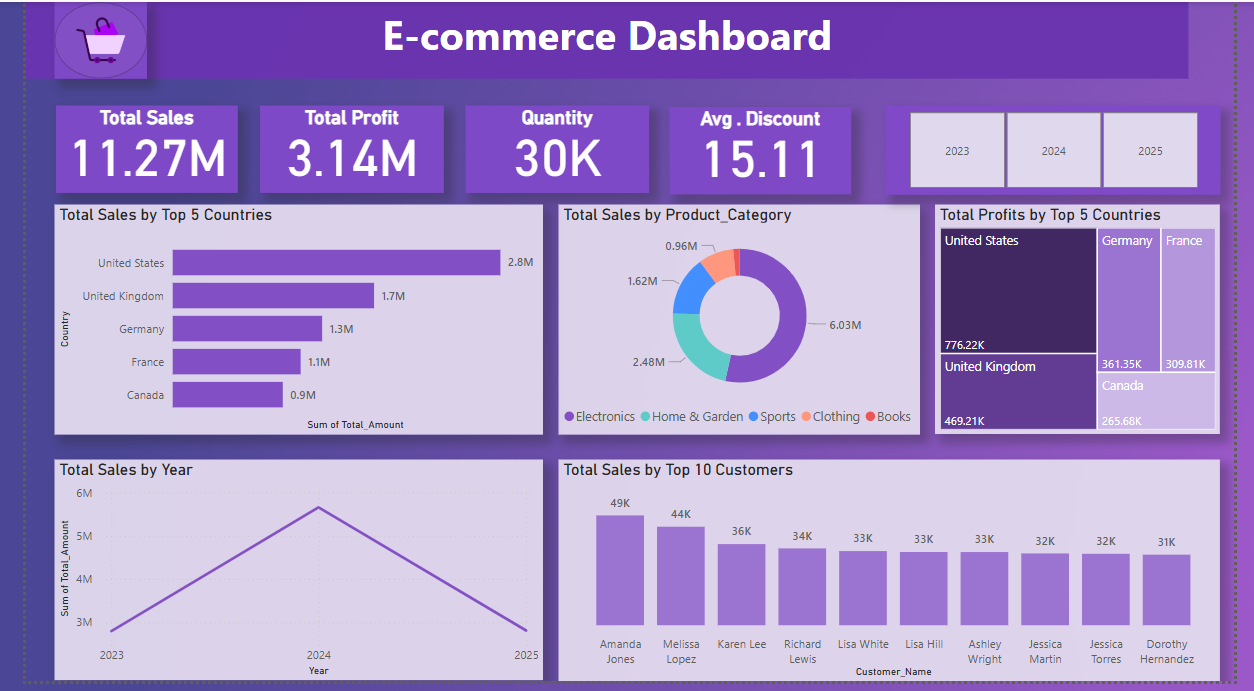

This screenshot's page, from the dashboard's own definition file:
{"tool":"powerbi","page":{"name":"Page 1","canvas":[1280,720],"ordinal":0},"visuals":[{"type":"textbox","box":[0,0,1232.7,81.1],"z":0},{"type":"card","title":"Total Profit","fields":{"Values":["Sum(Ecommerce_Dataset.Profit)"]},"box":[247.6,109.6,194.6,92.6],"z":1000},{"type":"card","title":"Quantity","fields":{"Values":["Sum(Ecommerce_Dataset.Quantity)"]},"box":[466.8,109.6,194.6,92.6],"z":2000},{"type":"card","title":"Total Sales","fields":{"Values":["Sum(Ecommerce_Dataset.Total_Amount)"]},"box":[32.1,109.6,192.8,92.6],"z":3000},{"type":"card","title":"Avg . Discount","fields":{"Values":["Avg(Ecommerce_Dataset.Discount_Percent)"]},"box":[682.2,111.5,192.8,92.6],"z":4000},{"type":"donutChart","title":"  Total Sales by Product_Category","fields":{"Y":["Sum(Ecommerce_Dataset.Total_Amount)"],"Category":["Ecommerce_Dataset.Product_Category"]},"box":[565,215.4,383.6,243.8],"z":5000},{"type":"lineChart","title":"Total Sales  by Year","fields":{"Category":["Ecommerce_Dataset.Order_Date.Variation.Date Hierarchy.Year","Ecommerce_Dataset.Order_Date.Variation.Date Hierarchy.Quarter","Ecommerce_Dataset.Order_Date.Variation.Date Hierarchy.Month","Ecommerce_Dataset.Order_Date.Variation.Date Hierarchy.Day"],"Y":["Sum(Ecommerce_Dataset.Total_Amount)"]},"box":[30.2,485.7,517.8,234.3],"z":6000},{"type":"barChart","title":" Total Sales by Top 5 Countries","fields":{"Category":["Ecommerce_Dataset.Country"],"Y":["Sum(Ecommerce_Dataset.Total_Amount)"]},"box":[30.2,215.4,517.8,243.8],"z":7000},{"type":"slicer","fields":{"Values":["Ecommerce_Dataset.Order_Date.Variation.Date Hierarchy.Year"]},"box":[910.9,109.6,355.3,94.5],"z":8000},{"type":"shape","box":[30.2,0,98.3,81.3],"z":9000},{"type":"image","box":[15.1,0,128.5,81.3],"z":10000},{"type":"columnChart","title":"Total Sales by Top 10 Customers","fields":{"Category":["Ecommerce_Dataset.Customer_Name"],"Y":["Sum(Ecommerce_Dataset.Total_Amount)"]},"box":[564.7,485.1,701.5,235.4],"z":11000},{"type":"treemap","title":"Total Profits by Top 5 Countries","fields":{"Group":["Ecommerce_Dataset.Country"],"Values":["Sum(Ecommerce_Dataset.Profit)"]},"box":[963.9,214.7,302.2,243.4],"z":12000}]}

Visuals, with their boxes in screenshot pixels (x1, y1, x2, y2), scaled from the page's 1280x720 canvas onto the 1254x691 screenshot:
textbox: (x1=0, y1=0, x2=1208, y2=78)
"Total Profit" card: (x1=243, y1=105, x2=433, y2=194)
"Quantity" card: (x1=457, y1=105, x2=648, y2=194)
"Total Sales" card: (x1=31, y1=105, x2=220, y2=194)
"Avg . Discount" card: (x1=668, y1=107, x2=857, y2=196)
"  Total Sales by Product_Category" donutChart: (x1=554, y1=207, x2=929, y2=441)
"Total Sales  by Year" lineChart: (x1=30, y1=466, x2=537, y2=690)
" Total Sales by Top 5 Countries" barChart: (x1=30, y1=207, x2=537, y2=441)
slicer - Ecommerce_Dataset.Order_Date.Variation.Date Hierarchy.Year: (x1=892, y1=105, x2=1240, y2=196)
shape: (x1=30, y1=0, x2=126, y2=78)
image: (x1=15, y1=0, x2=141, y2=78)
"Total Sales by Top 10 Customers" columnChart: (x1=553, y1=466, x2=1240, y2=690)
"Total Profits by Top 5 Countries" treemap: (x1=944, y1=206, x2=1240, y2=440)
